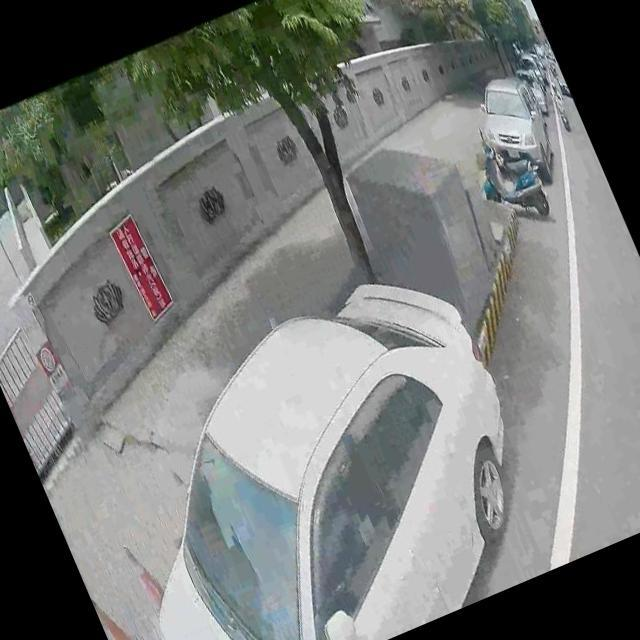person: (546, 80, 563, 104)
